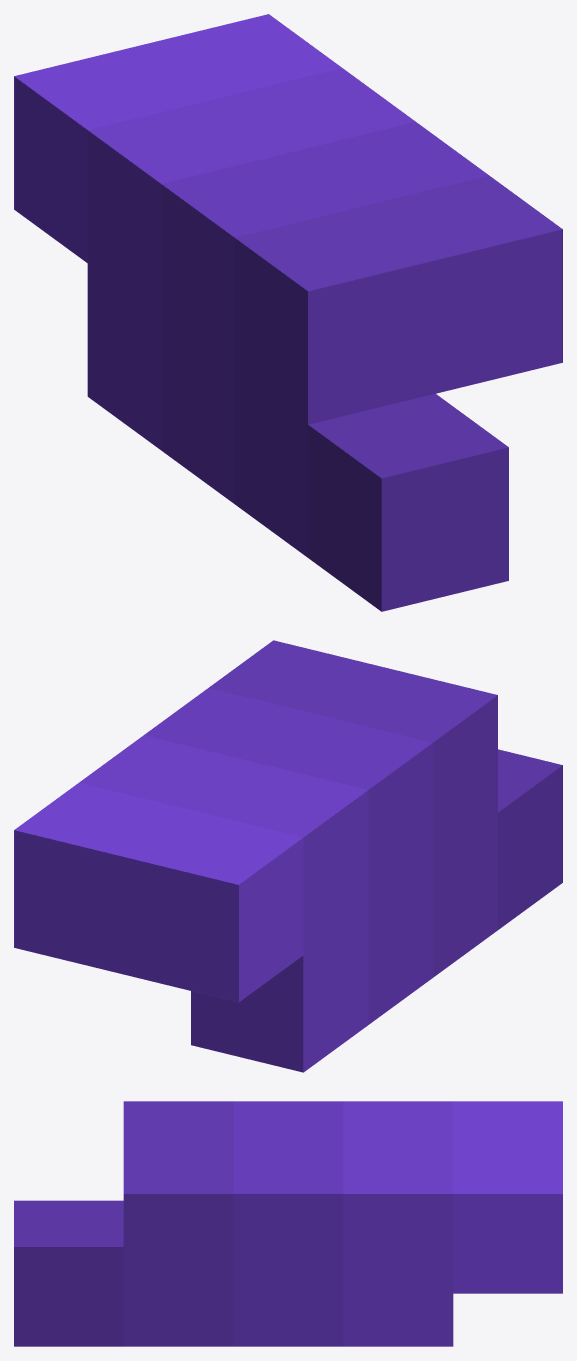
Rendered from VoidLordLowerArm.obj.
3 views of the same model, one above another, from view 1: azimuth 30°, elevation 25°; view 2: azimuth 150°, elevation 25°; view 3: azimuth 270°, elevation 25° (orthographic). The views are drawn at different scales.
Visible parts, largest first — view 1: VoidLordLowerArm; view 2: VoidLordLowerArm; view 3: VoidLordLowerArm.
Boxes of the visible parts, x1,y1,x2,y2 form: VoidLordLowerArm: (14,14,562,611); VoidLordLowerArm: (14,640,562,1072); VoidLordLowerArm: (14,1101,562,1346).
Bounding box in the file's own units: 2 × 2 × 5.
1 material, 1 textured.
